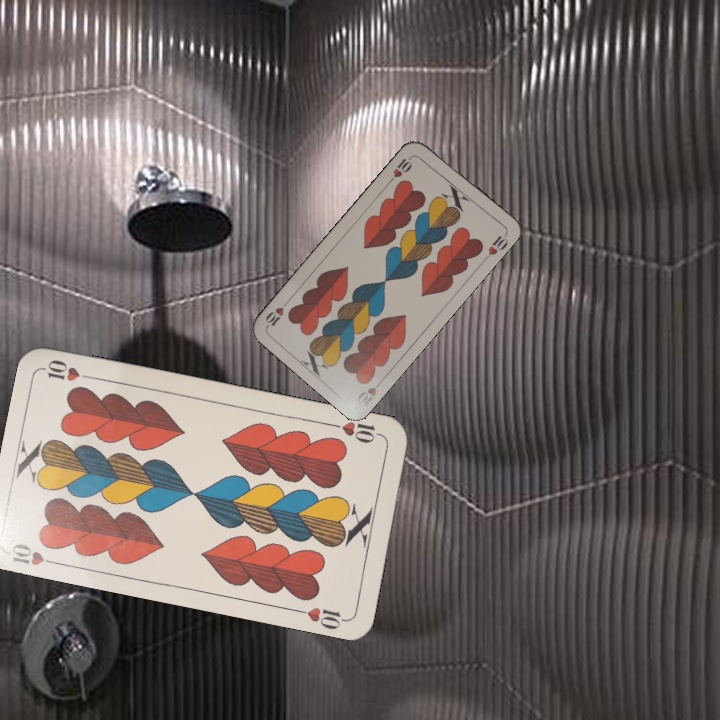H10: (326, 417, 385, 446), (7, 539, 63, 569), (353, 374, 387, 409), (385, 151, 416, 185)
